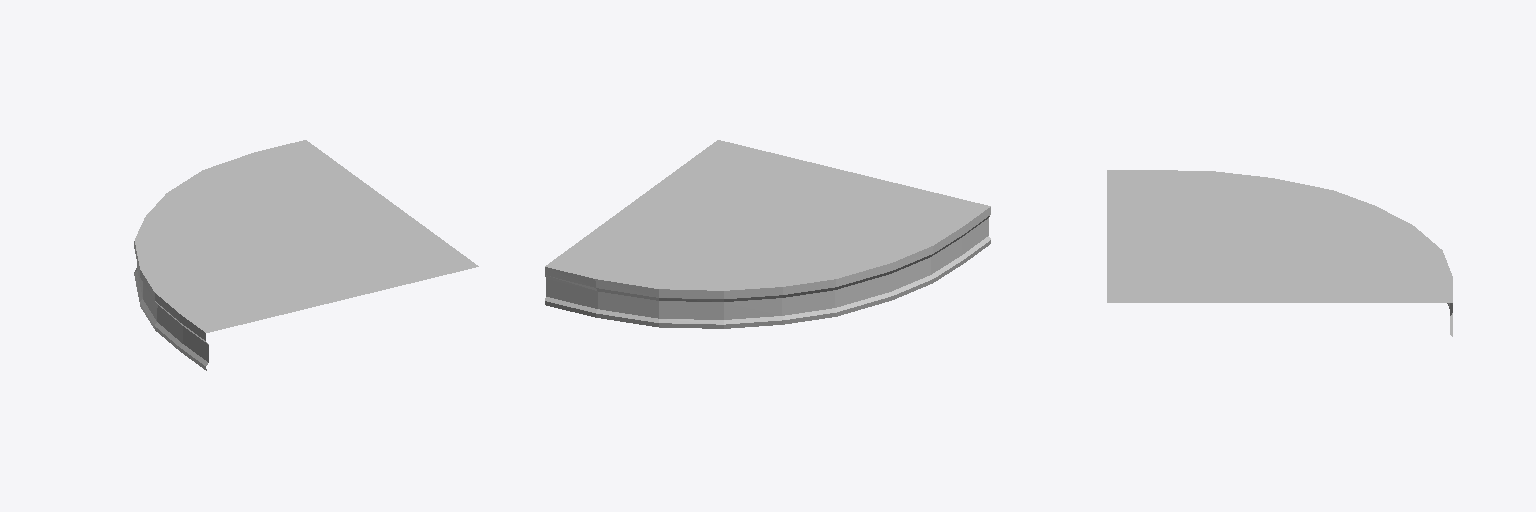
The model's file is BaseRoundcorner.obj.
The picture shows the model from 3 angles: view 1: azimuth 30°, elevation 25°; view 2: azimuth 150°, elevation 25°; view 3: azimuth 270°, elevation 25°; orthographic projection.
Parts seen in each view (by area): view 1: polySurface15 polySurface13 polySurface12; view 2: polySurface15 polySurface13 polySurface12; view 3: polySurface15 polySurface13 polySurface12.
Part boxes in pixels (left/top/right/bottom): polySurface15 polySurface13 polySurface12: left=134, top=140, right=478, bottom=370; polySurface15 polySurface13 polySurface12: left=545, top=140, right=990, bottom=328; polySurface15 polySurface13 polySurface12: left=1107, top=170, right=1452, bottom=336.
Bounding box in the file's own units: 22.37 × 3.04 × 24.59.